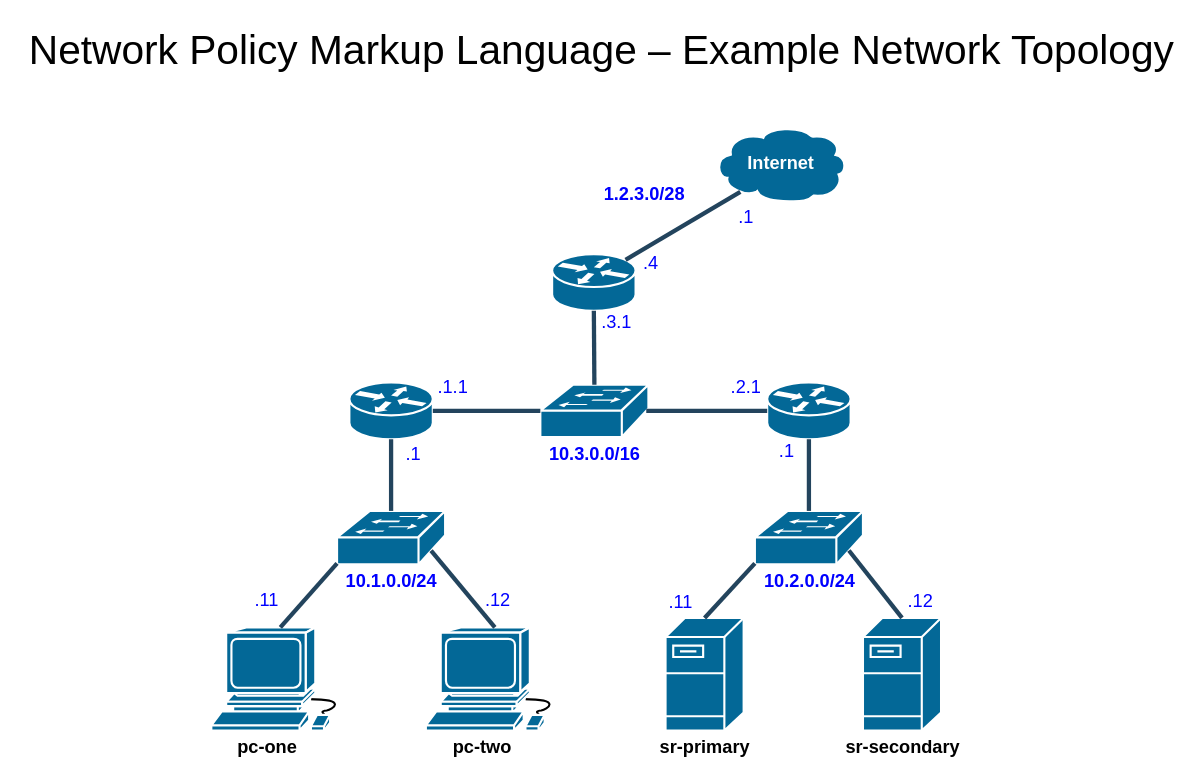
The diagram is 1203 pixels wide and 778 high, and some of its shapes have lost their labels. Here are the shapes that lost their labels. From the top down, the box of each, then its label:
(551, 253, 636, 311): rt-edge
(348, 381, 433, 440): rt-clients
(766, 381, 851, 440): rt-services
